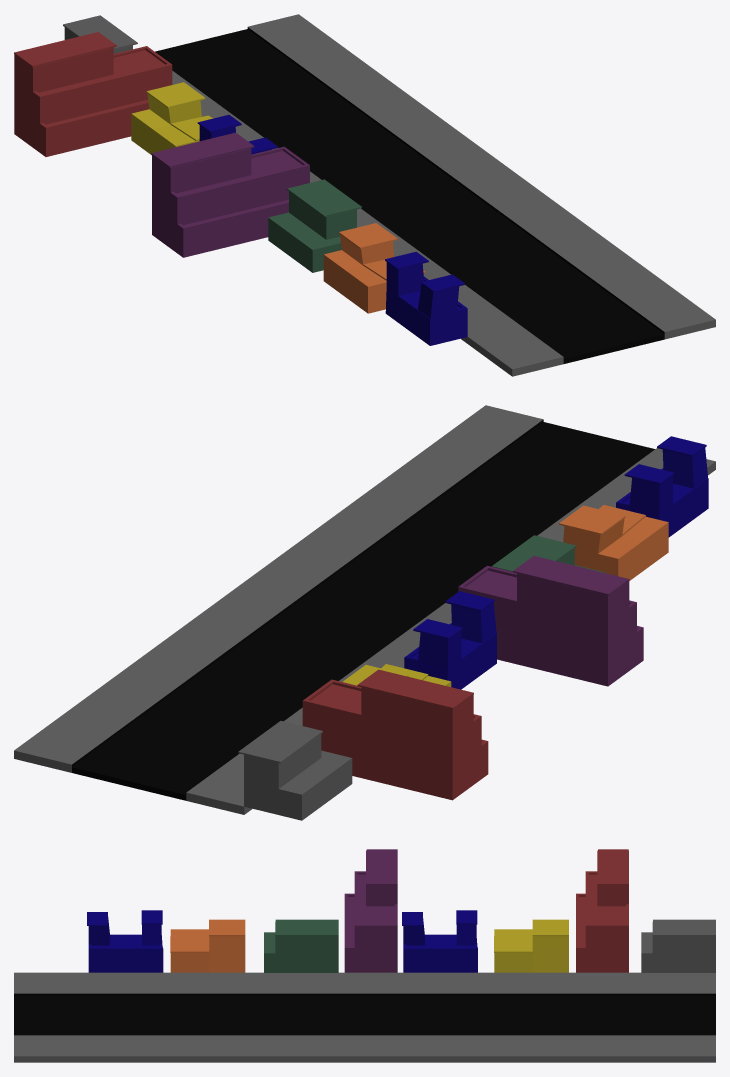
The model's file is casasycalle1.fbx.
3 views of the same model, one above another, from view 1: azimuth 30°, elevation 25°; view 2: azimuth 150°, elevation 25°; view 3: azimuth 270°, elevation 25° (orthographic). The views are drawn at different scales.
Parts seen in each view (by area): view 1: Cube, Cube.005, Cube.002, Cube.008, Cube.006, Cube.007, Cube.004, Cube.003, Cube.001; view 2: Cube, Cube.002, Cube.005, Cube.003, Cube.001, Cube.007, Cube.008, Cube.006, Cube.004; view 3: Cube, Cube.005, Cube.002, Cube.008, Cube.001, Cube.006, Cube.003, Cube.007, Cube.004.
Part boxes in pixels (box(x1,y1,x2,y2)): Cube: box(155, 14, 715, 376); Cube.005: box(151, 132, 309, 257); Cube.002: box(14, 32, 172, 156); Cube.008: box(385, 251, 467, 345); Cube.006: box(268, 179, 361, 272); Cube.007: box(323, 223, 425, 313); Cube.004: box(131, 82, 212, 155); Cube.003: box(63, 15, 137, 53); Cube.001: box(197, 115, 277, 154); Cube: box(14, 405, 715, 814); Cube.002: box(302, 669, 488, 800); Cube.005: box(458, 556, 643, 686); Cube.003: box(238, 721, 352, 820); Cube.001: box(404, 591, 496, 689); Cube.007: box(559, 504, 668, 580); Cube.008: box(616, 436, 708, 537); Cube.006: box(491, 535, 605, 572); Cube.004: box(342, 664, 451, 686); Cube: box(14, 972, 715, 1062); Cube.005: box(344, 849, 397, 972); Cube.002: box(576, 849, 628, 972); Cube.008: box(87, 910, 163, 972); Cube.001: box(402, 910, 477, 972); Cube.006: box(264, 919, 338, 972); Cube.003: box(641, 919, 715, 972); Cube.007: box(170, 919, 245, 972); Cube.004: box(494, 919, 568, 972).
Size of the model in its own units: 5253 by 1330 by 11279.
